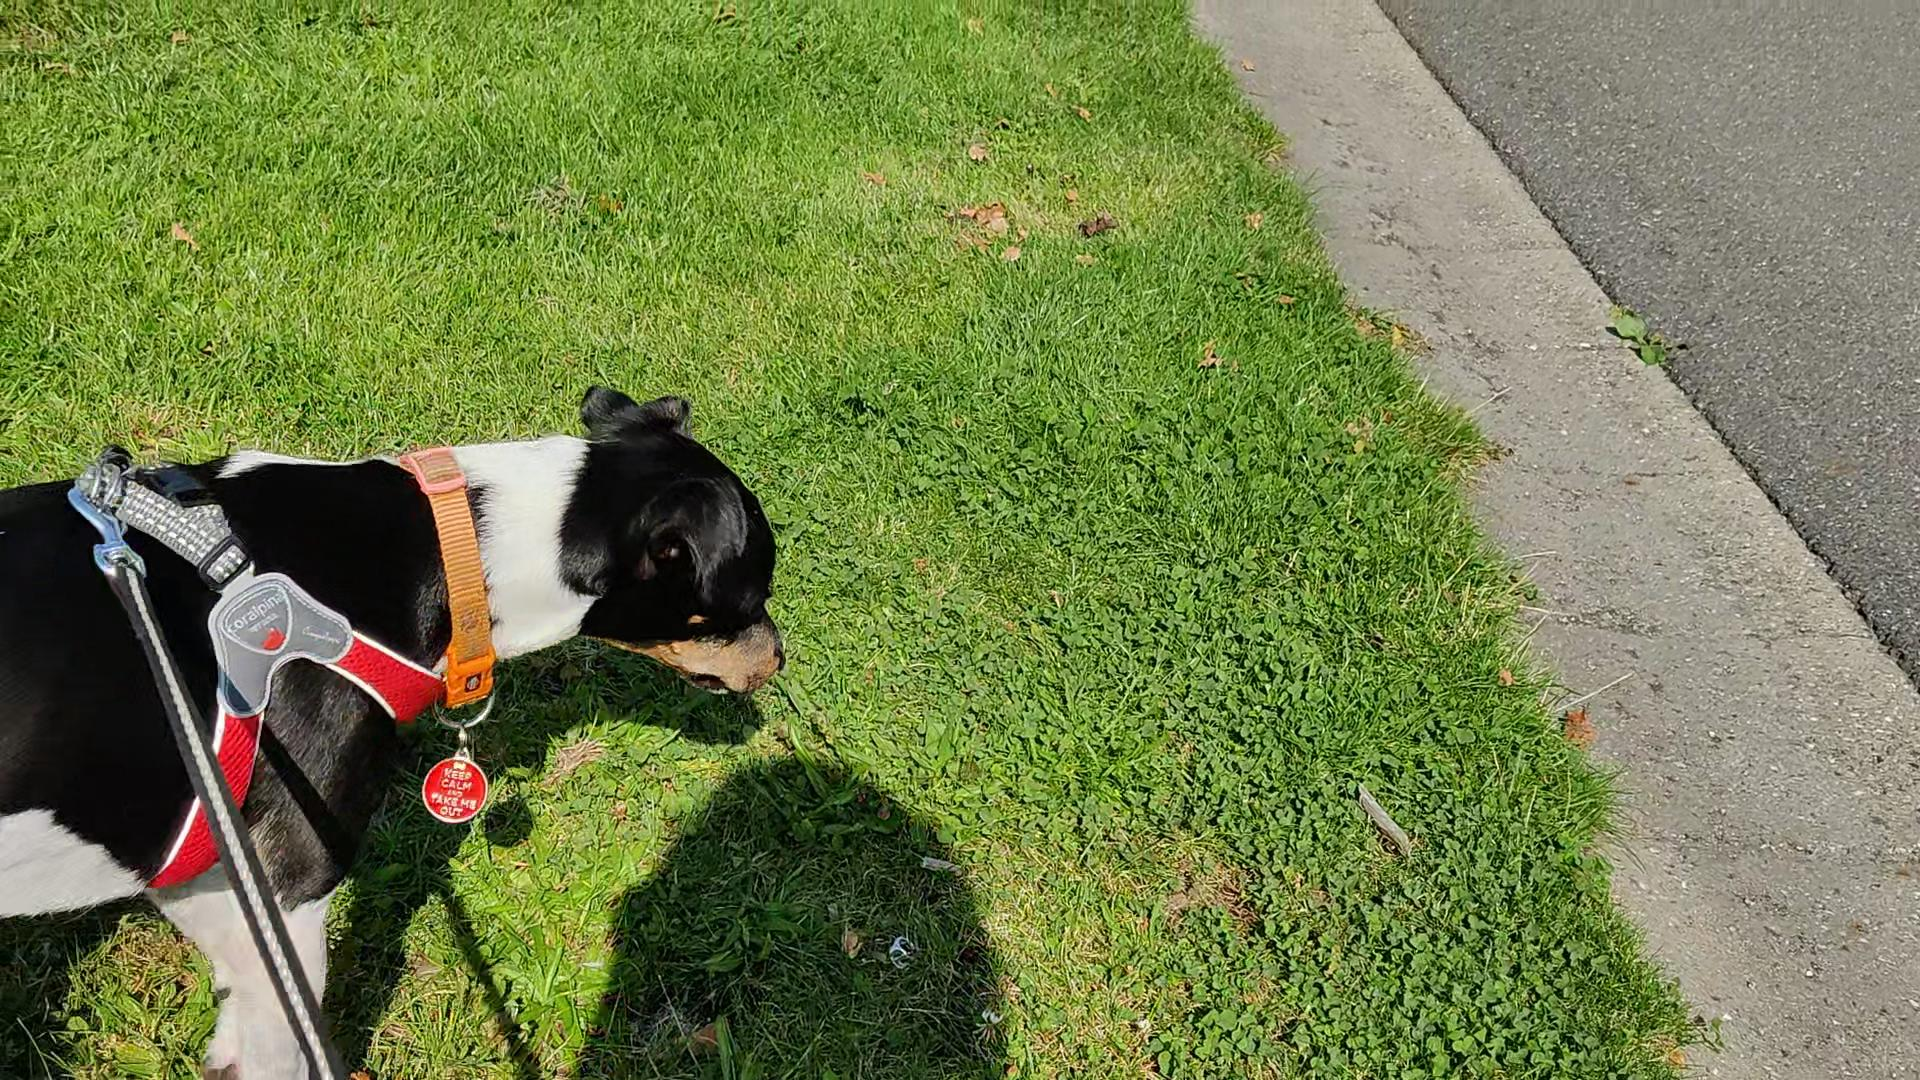Dog: (0, 364, 814, 1079)
